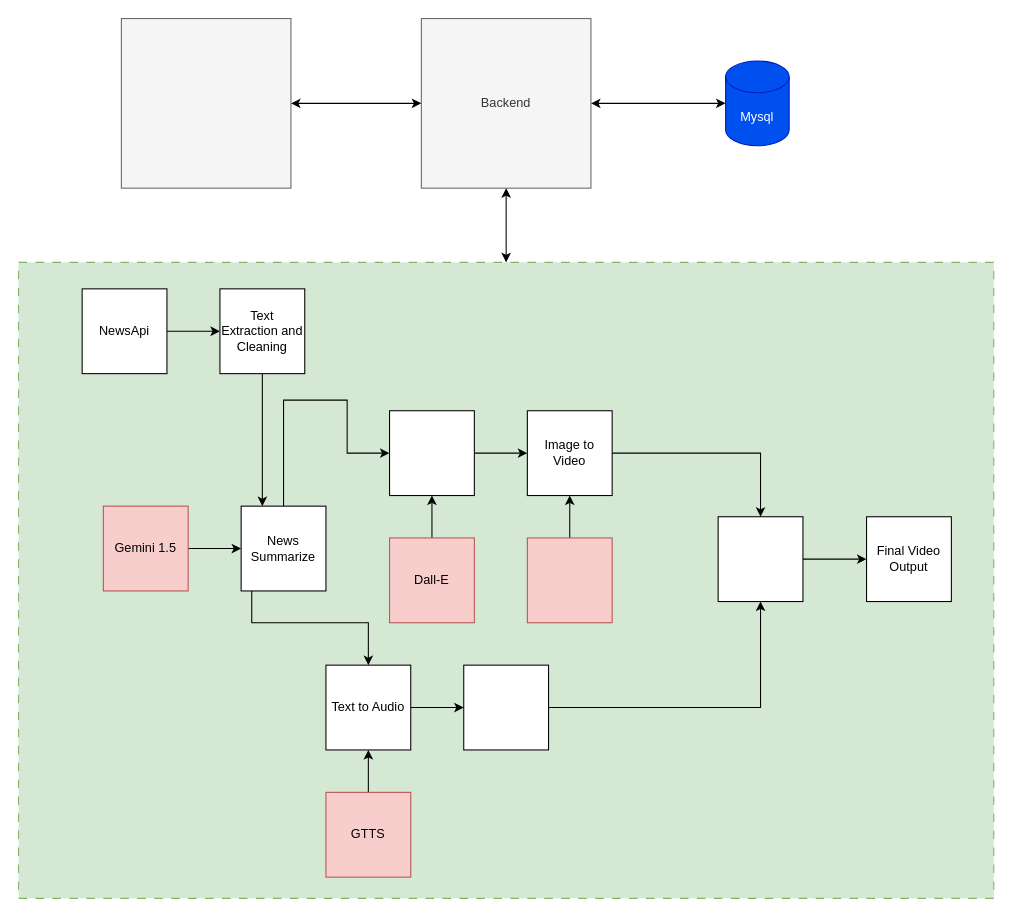
This 1012x917 diagram has some shape labels left out. The shapes that lost their labels are listed below. From the top down, each one's box as (x1, y1, x2, y2) in pixels, then its label:
(120, 17, 291, 188): Frontend
(388, 410, 474, 496): Text to image
(717, 516, 803, 602): Video and Audio Merger
(526, 537, 612, 623): Fal Ai
(463, 664, 549, 750): Captions Generator
